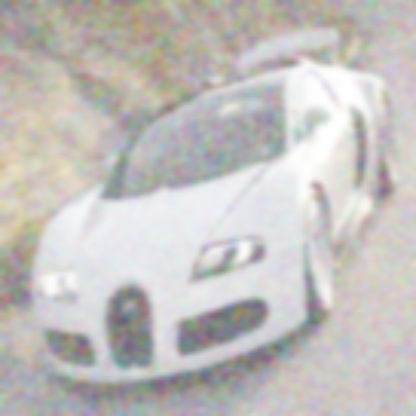Vehicle: (32, 29, 396, 386)
